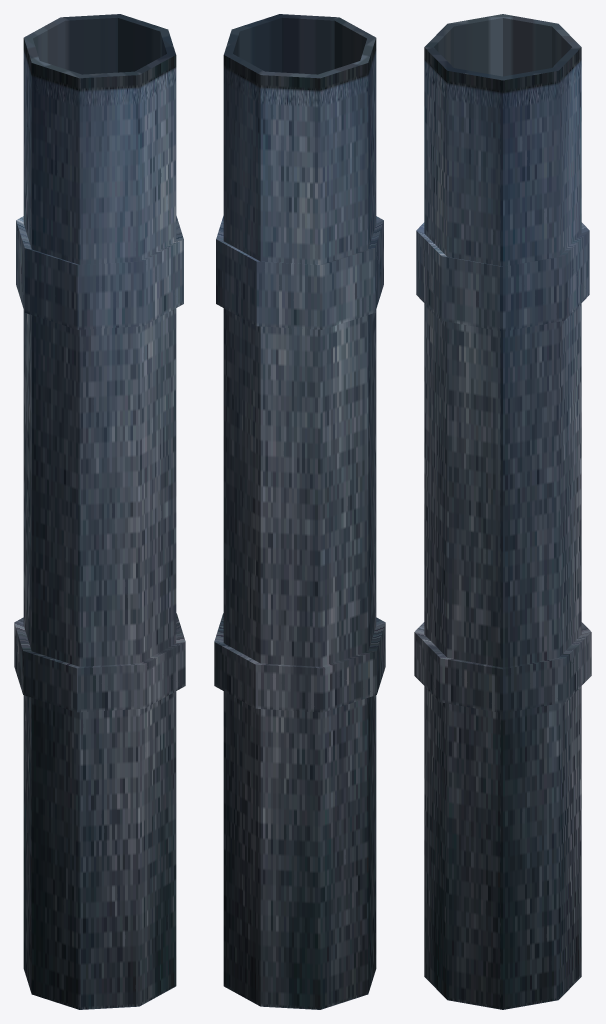
Rendered from pipe000.glb.
The picture shows the model from 3 angles, left to right: view 1: azimuth 30°, elevation 25°; view 2: azimuth 150°, elevation 25°; view 3: azimuth 270°, elevation 25°; orthographic projection.
Parts seen in each view (by area): view 1: Cylinder; view 2: Cylinder; view 3: Cylinder.
Boxes of the visible parts, box(x1,y1,x2,y2) form: Cylinder: box(14, 14, 185, 1009); Cylinder: box(214, 14, 385, 1009); Cylinder: box(414, 14, 591, 1009).
Bounding box in the file's own units: 0.6304 × 3.65 × 0.6304.
1 material, 1 textured.
